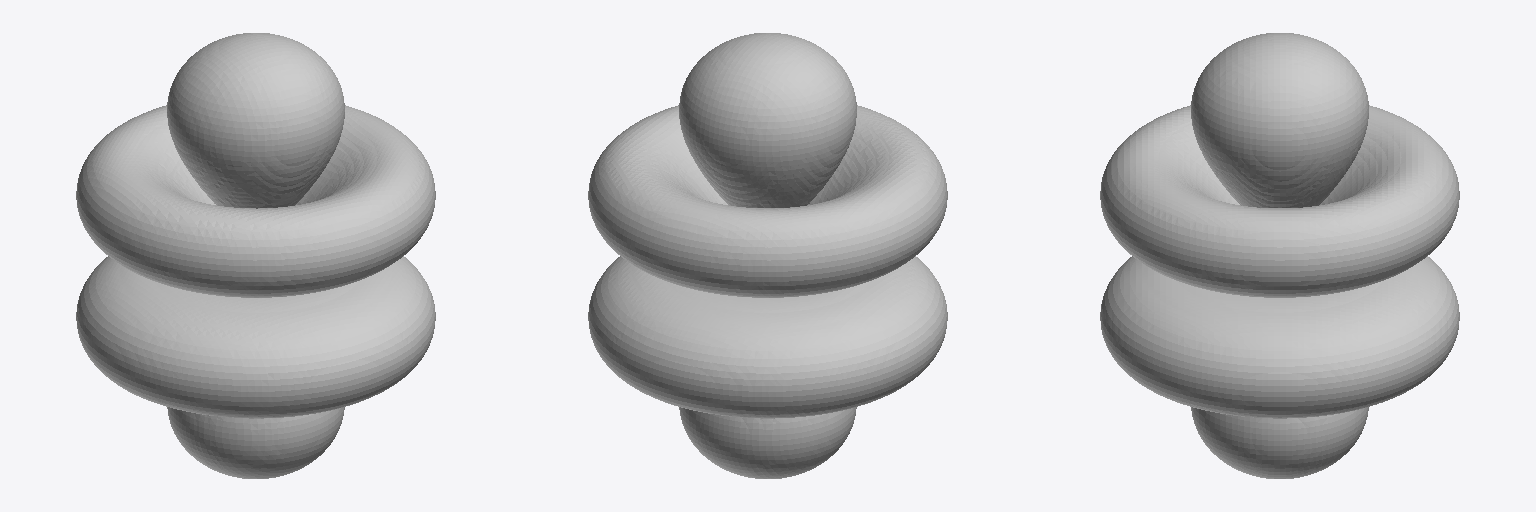
File: orb_n=4_ l=3 _m=0.obj
3 renders of one model, left to right at view 1: azimuth 30°, elevation 25°; view 2: azimuth 150°, elevation 25°; view 3: azimuth 270°, elevation 25°, orthographic.
Parts seen in each view (by area): view 1: orb_n=4__l=3__m=0; view 2: orb_n=4__l=3__m=0; view 3: orb_n=4__l=3__m=0.
Part boxes in pixels (x1,y1,x2,y2): orb_n=4__l=3__m=0: (76, 33, 435, 478); orb_n=4__l=3__m=0: (588, 33, 947, 478); orb_n=4__l=3__m=0: (1100, 33, 1459, 478).
Bounding box in the file's own units: 55.77 × 73.09 × 55.77.